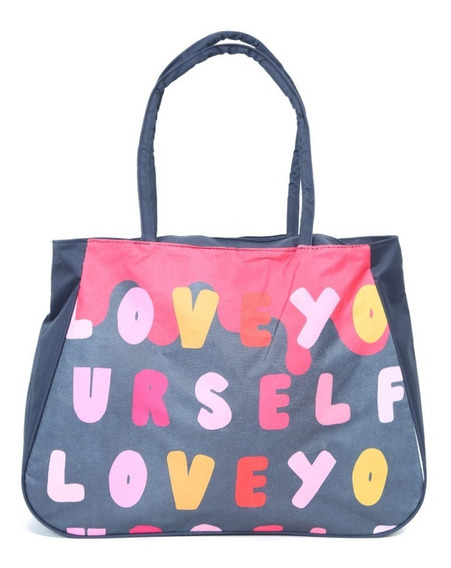cartera: (20, 29, 429, 542)
